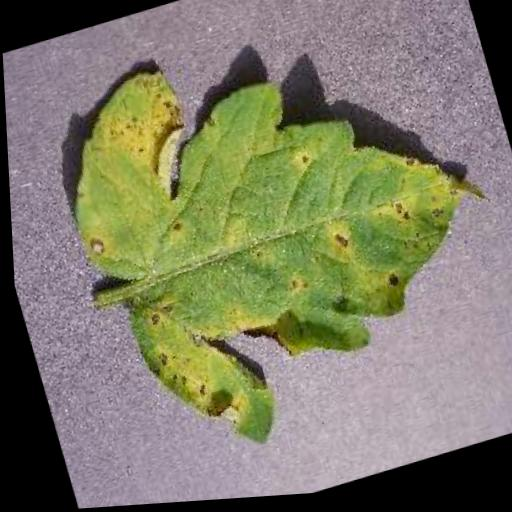Septoria: (30, 0, 512, 488)
